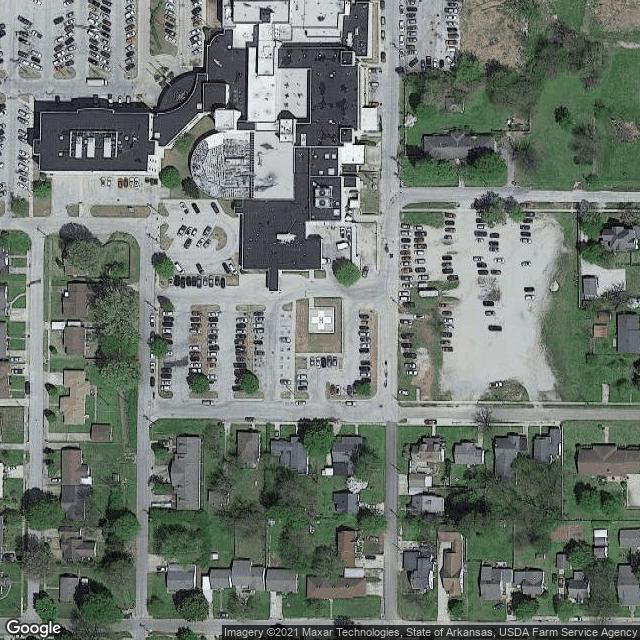Helipad: (307, 306, 335, 332)
